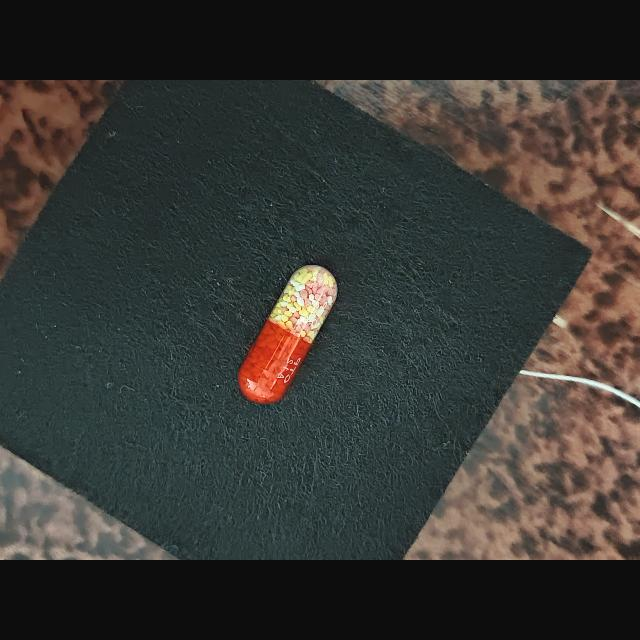Intact Capsule: (238, 265, 338, 404)
